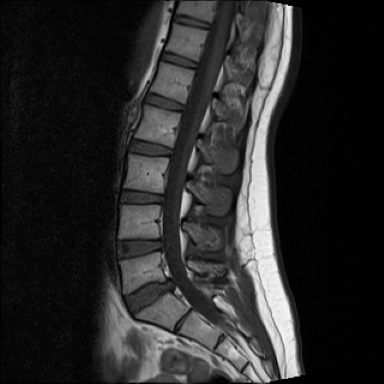Lumbar Disc Bulge (LDB): (116, 273, 177, 321)
Normal IVD: (109, 233, 167, 266), (115, 183, 168, 210), (124, 137, 177, 161), (144, 86, 186, 116), (159, 46, 200, 75), (172, 11, 213, 34)
